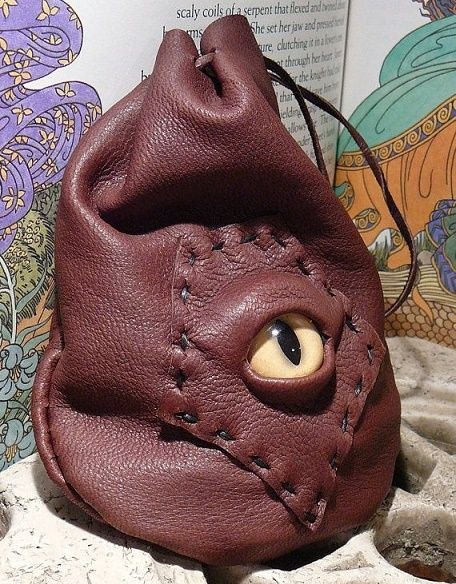cuero: (30, 14, 418, 566)
